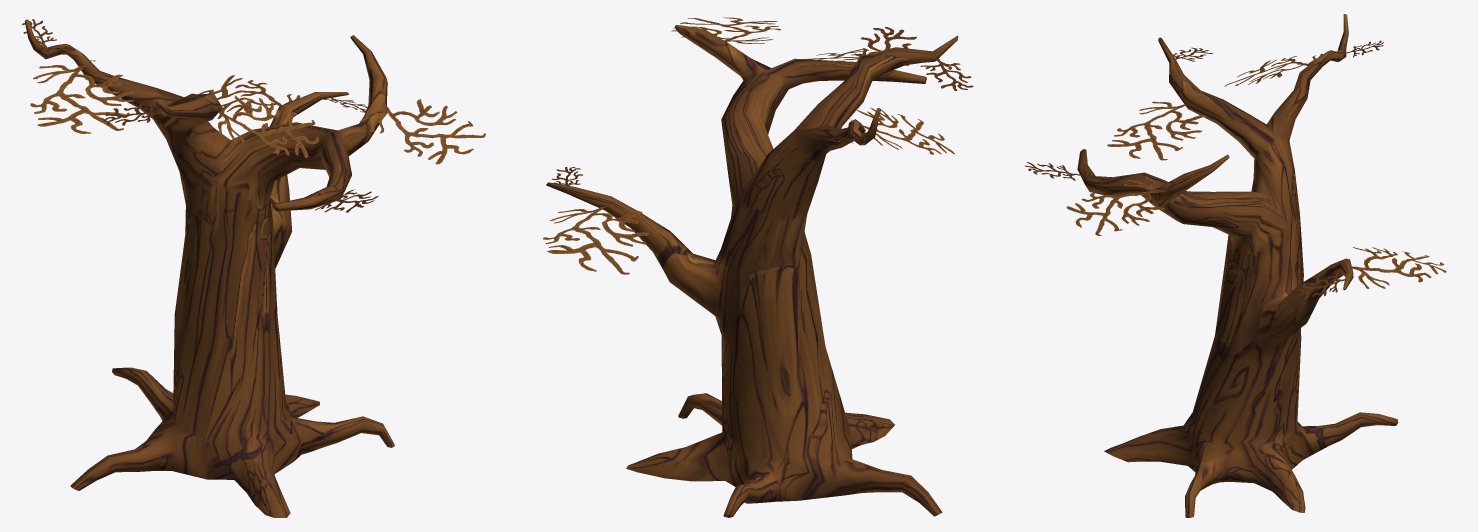
The model's file is tree_1.fbx.
The picture shows the model from 3 angles, left to right: view 1: azimuth 30°, elevation 25°; view 2: azimuth 150°, elevation 25°; view 3: azimuth 270°, elevation 25°; orthographic projection. The views are drawn at different scales.
Parts seen in each view (by area): view 1: oak; view 2: oak; view 3: oak.
Part boxes in pixels (x1,y1,x2,y2): oak: [22, 19, 485, 517]; oak: [543, 17, 973, 517]; oak: [1025, 14, 1446, 517].
Size of the model in its own units: 742 by 788 by 829.
